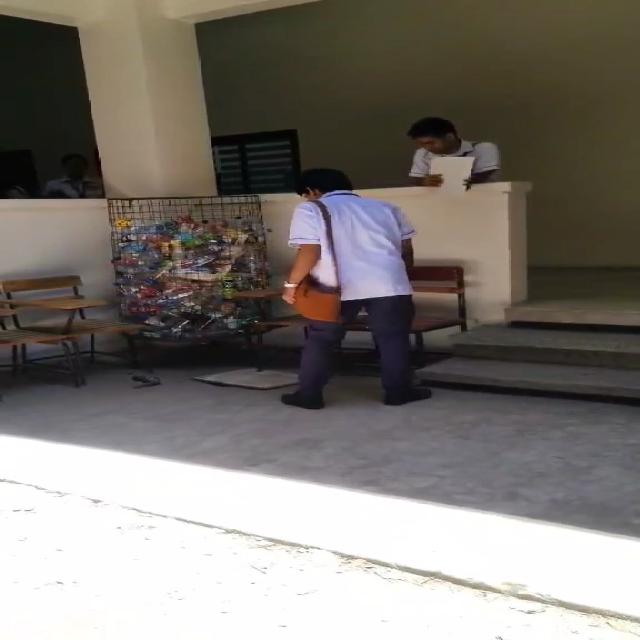Bottle: (131, 374, 161, 387)
